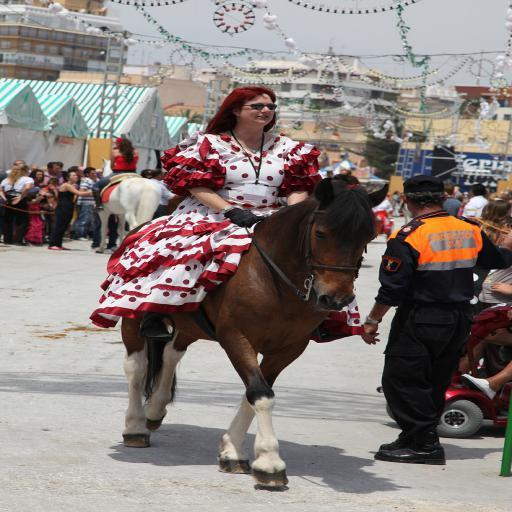horse: (119, 174, 387, 488), (97, 158, 163, 254)
